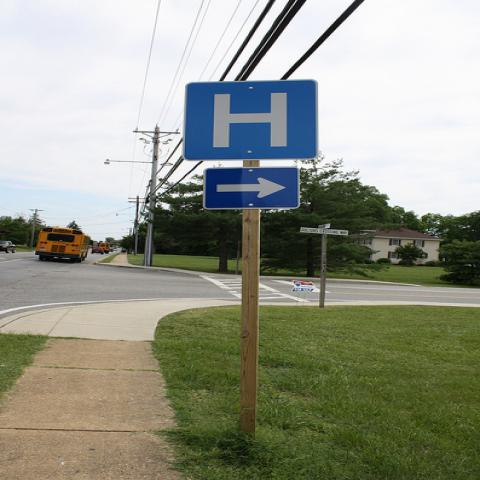bus: (34, 226, 94, 263), (96, 243, 110, 254)
car: (0, 240, 16, 253), (90, 247, 104, 255)
